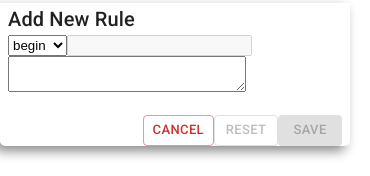
Scenario: eventsutil - newrule › enables reset and save after rule modification
Type "+2" into the text box with test id "contentRule" at coordinates (127, 74), box [8,56,246,92]
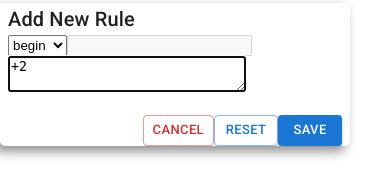
Expected: the button "Reset" is enabled, [214,115,278,146]
Expected: the button "Save" is enabled, [278,115,342,146]
